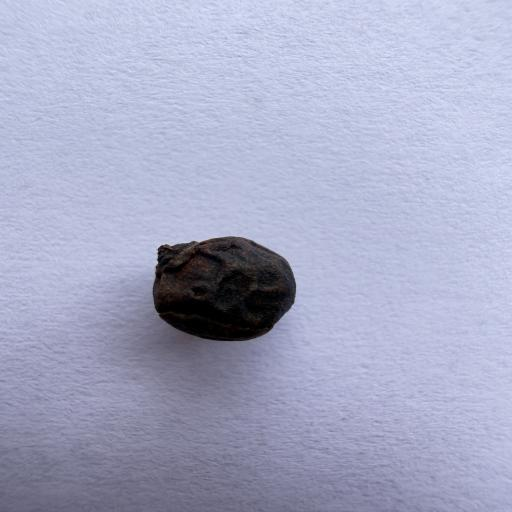Black_pepper: (120, 220, 345, 352)
